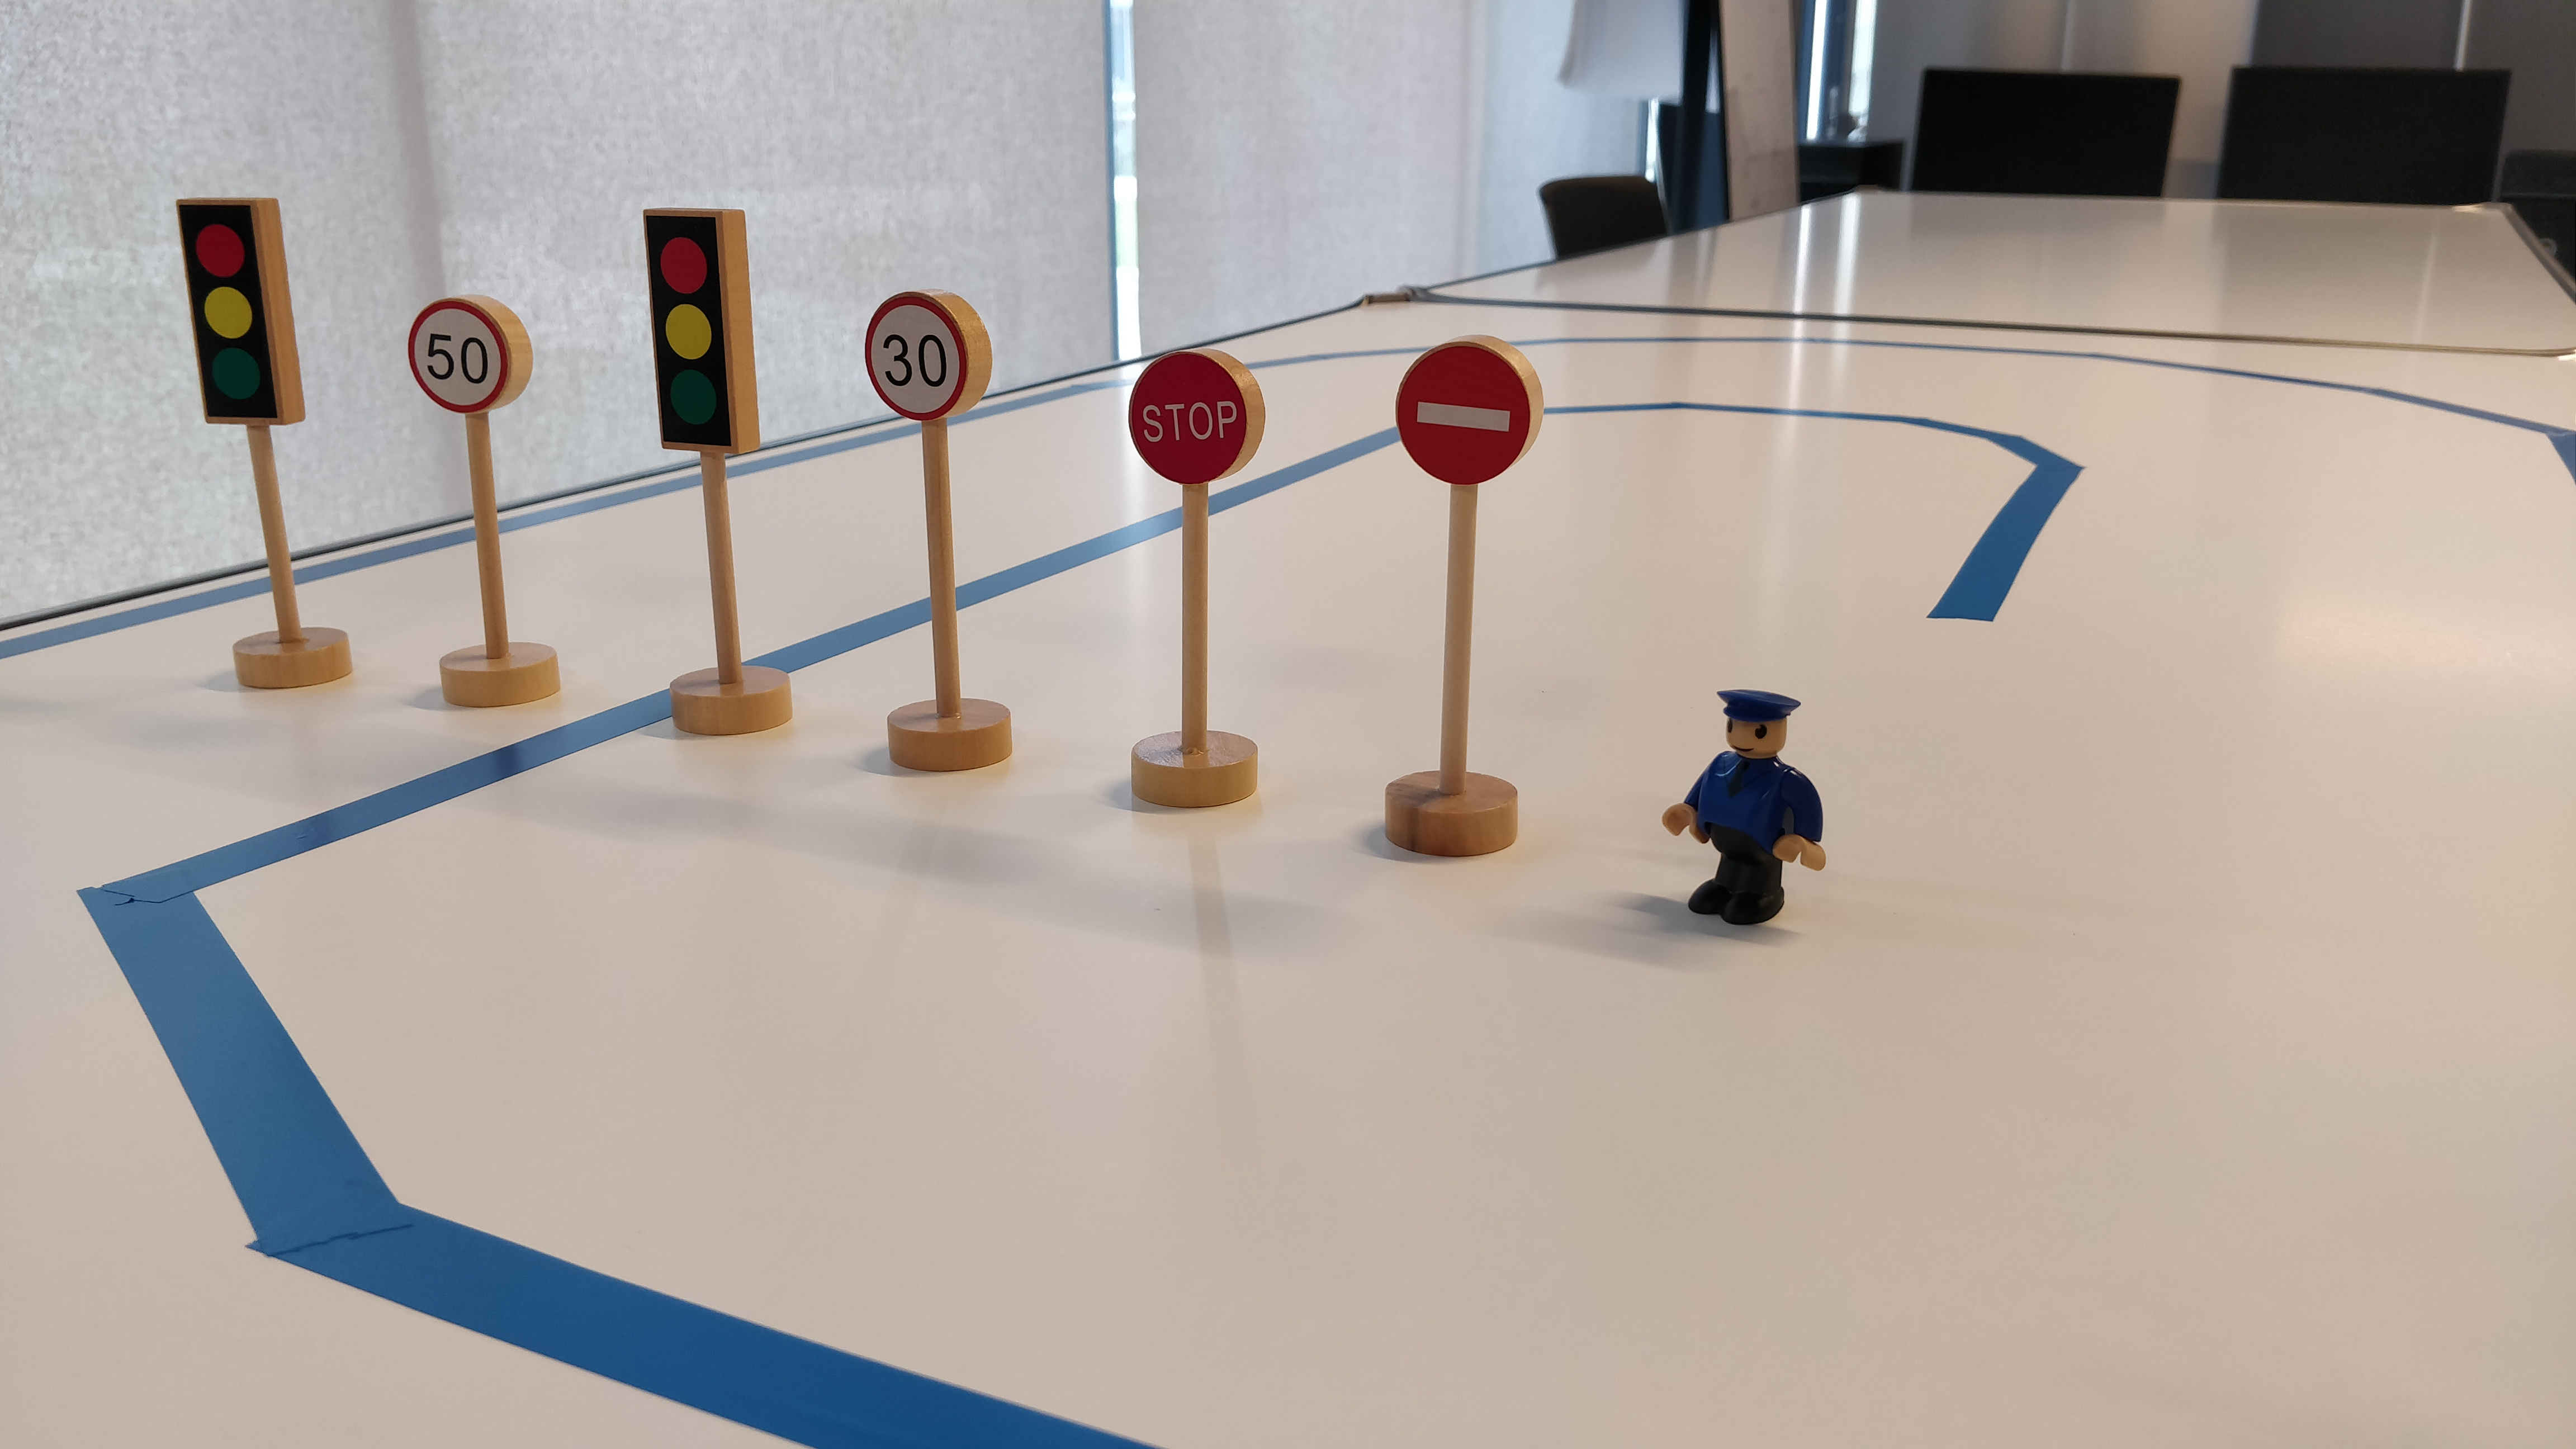Person: (1663, 689, 1826, 925)
Prohibition Sign: (1398, 337, 1551, 486)
Speed Limit 30: (863, 285, 993, 424)
Speed Limit 50: (405, 291, 534, 418)
Stop Sign: (1130, 346, 1269, 484)
Traffic Light: (640, 205, 765, 458), (173, 196, 305, 427)
